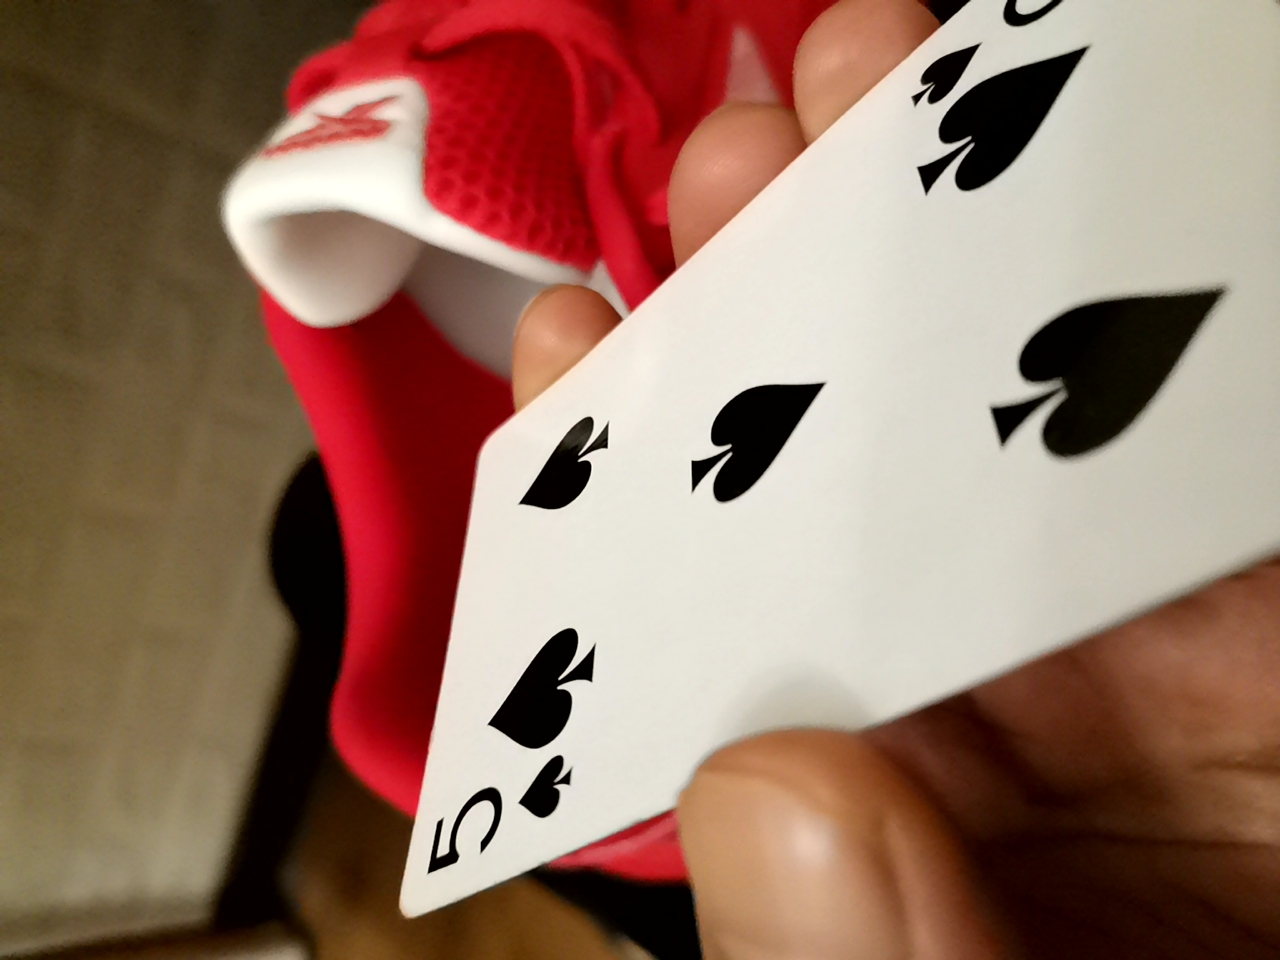ht 5: (350, 12, 1265, 913)
